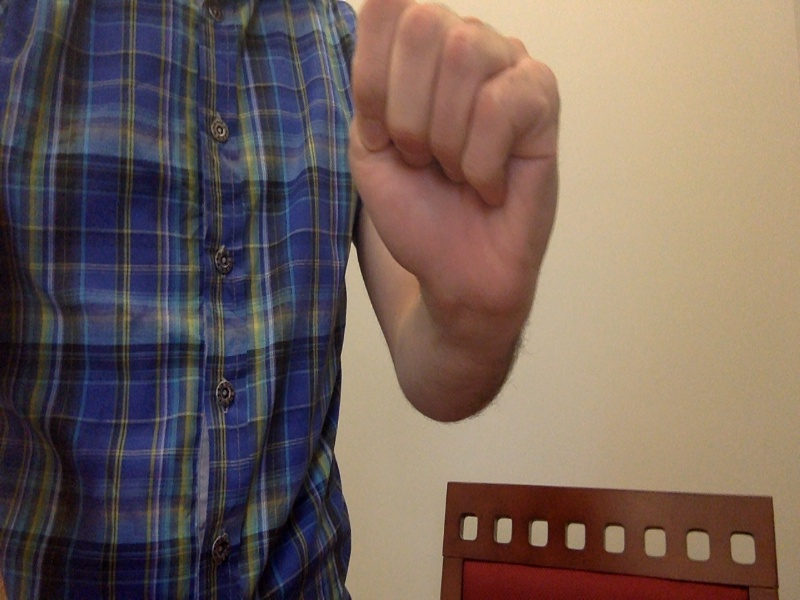0-hand: (342, 1, 563, 311)
